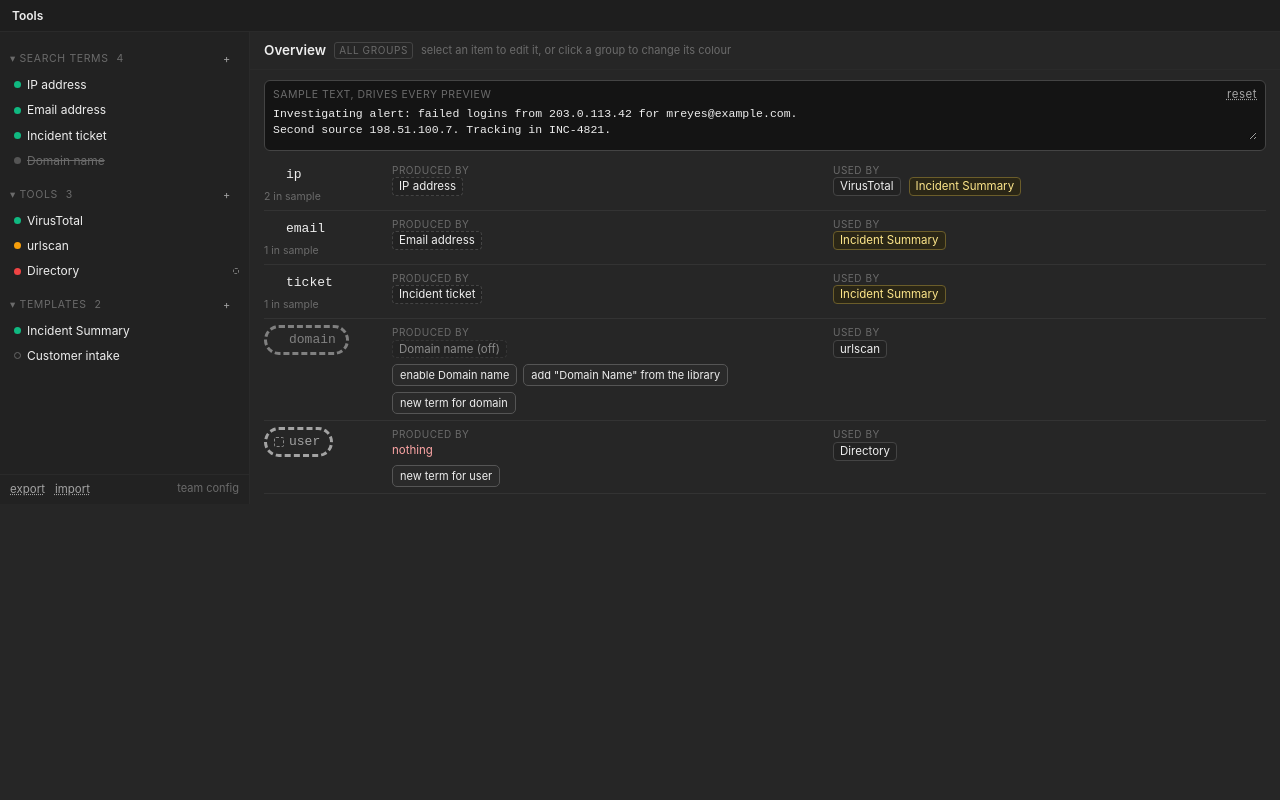
Test case: Tools › names a single dependent in the singular
This screenshot has width=1280, height=800.
Click the option with test id "row-term-t-domain". click: point(59, 161)
box: x1=14 y1=153 x2=105 y2=168
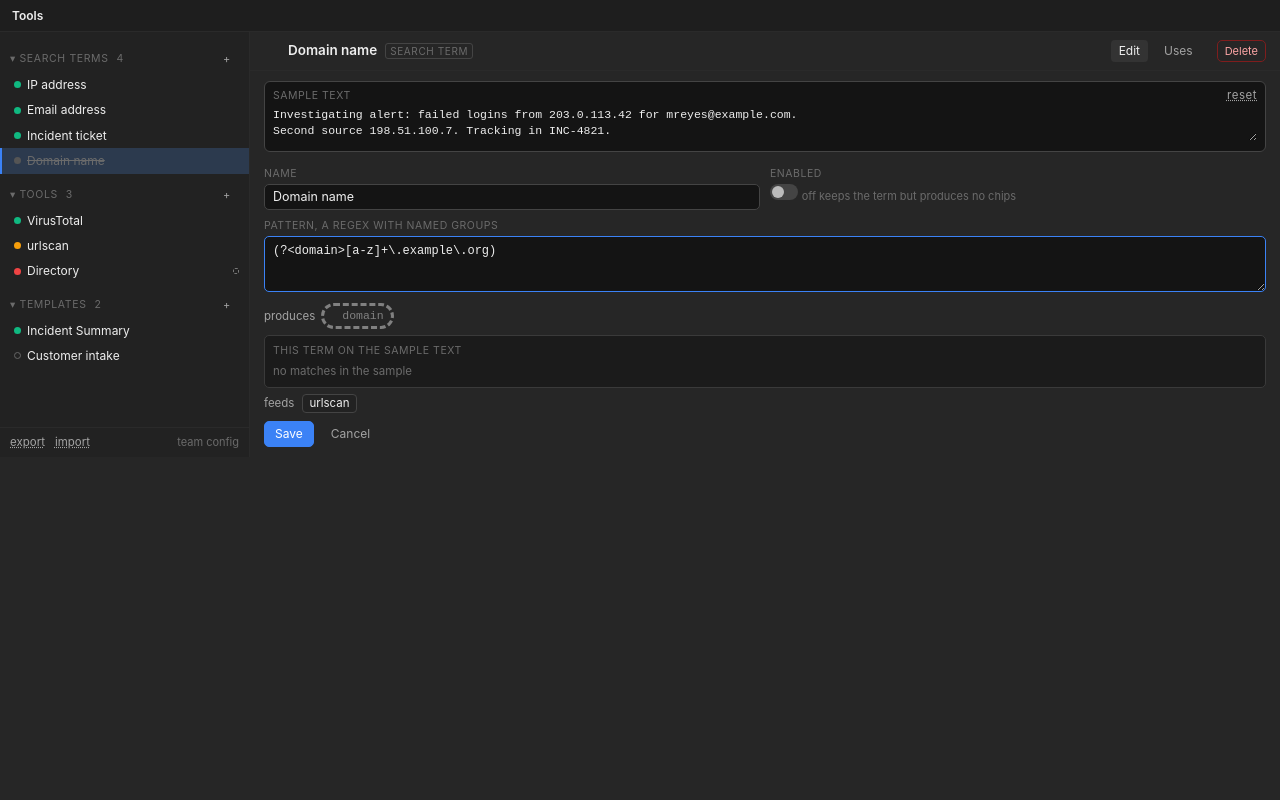
Click the button with test id "delete". click: point(1241, 51)
box: x1=1217 y1=40 x2=1266 y2=62
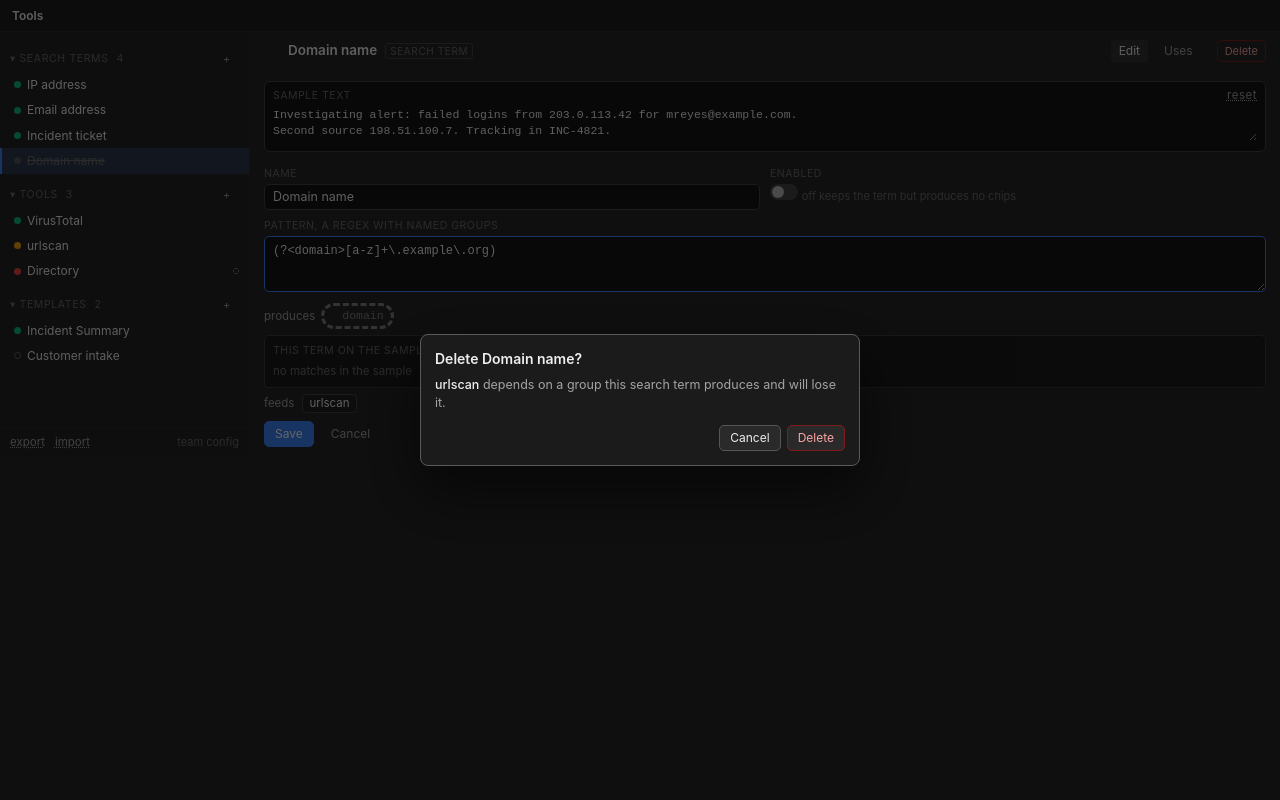
expect the dialog shows "urlscan depends on a group": met, box x1=420 y1=334 x2=860 y2=466
